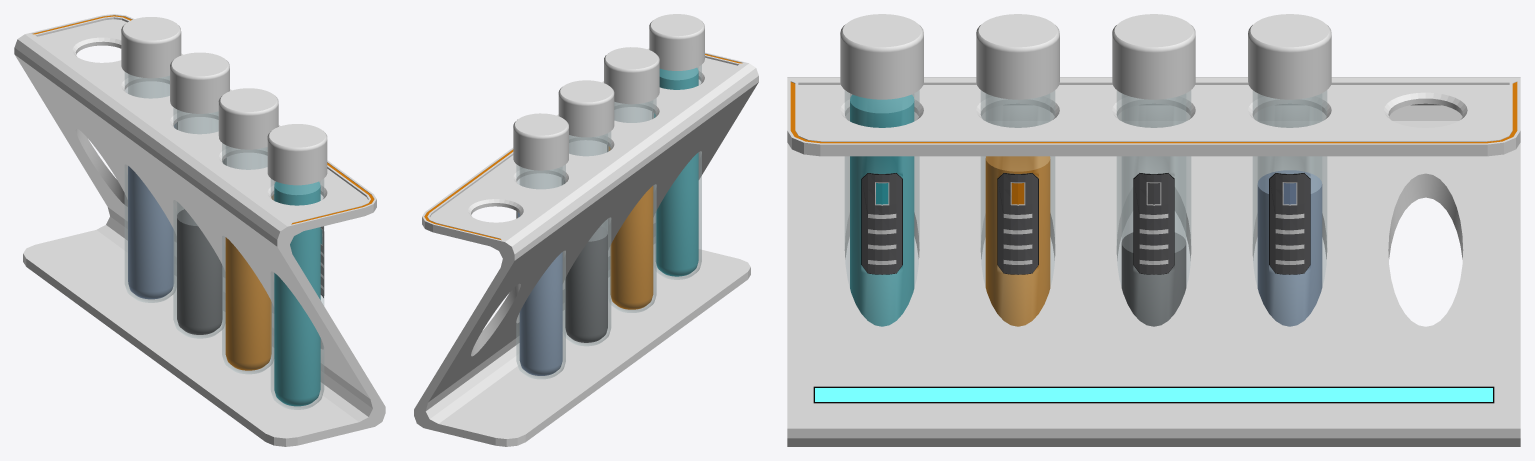
The model's file is tube_rack.glb.
3 views of the same model, side by side, from view 1: azimuth 30°, elevation 25°; view 2: azimuth 150°, elevation 25°; view 3: azimuth 270°, elevation 25° (orthographic). The views are drawn at different scales.
Visible parts, largest first — view 1: SM_Analysis_Tube_Rack.001; view 2: SM_Analysis_Tube_Rack.001; view 3: SM_Analysis_Tube_Rack.001.
Part boxes in pixels (x1=…): SM_Analysis_Tube_Rack.001: x1=14, y1=14, x2=385, y2=446; SM_Analysis_Tube_Rack.001: x1=414, y1=14, x2=758, y2=446; SM_Analysis_Tube_Rack.001: x1=787, y1=14, x2=1520, y2=446.
Bounding box in the file's own units: 0.0513 × 0.1253 × 0.2158.
